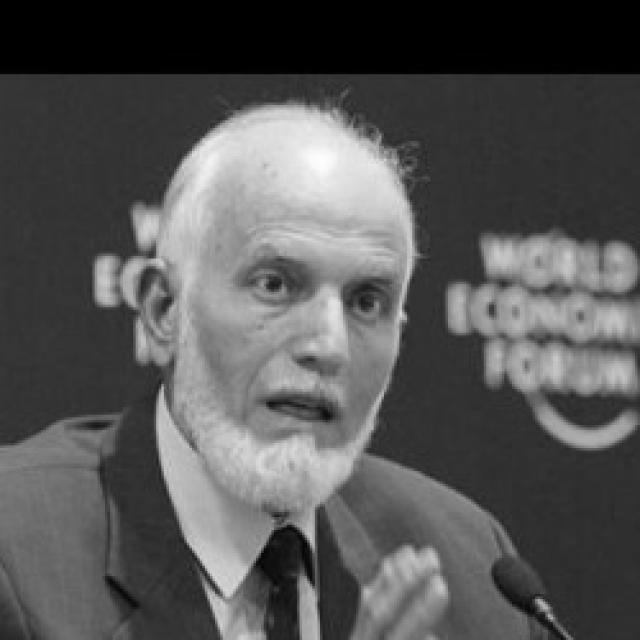real: (188, 136, 408, 478), (219, 255, 402, 338)
